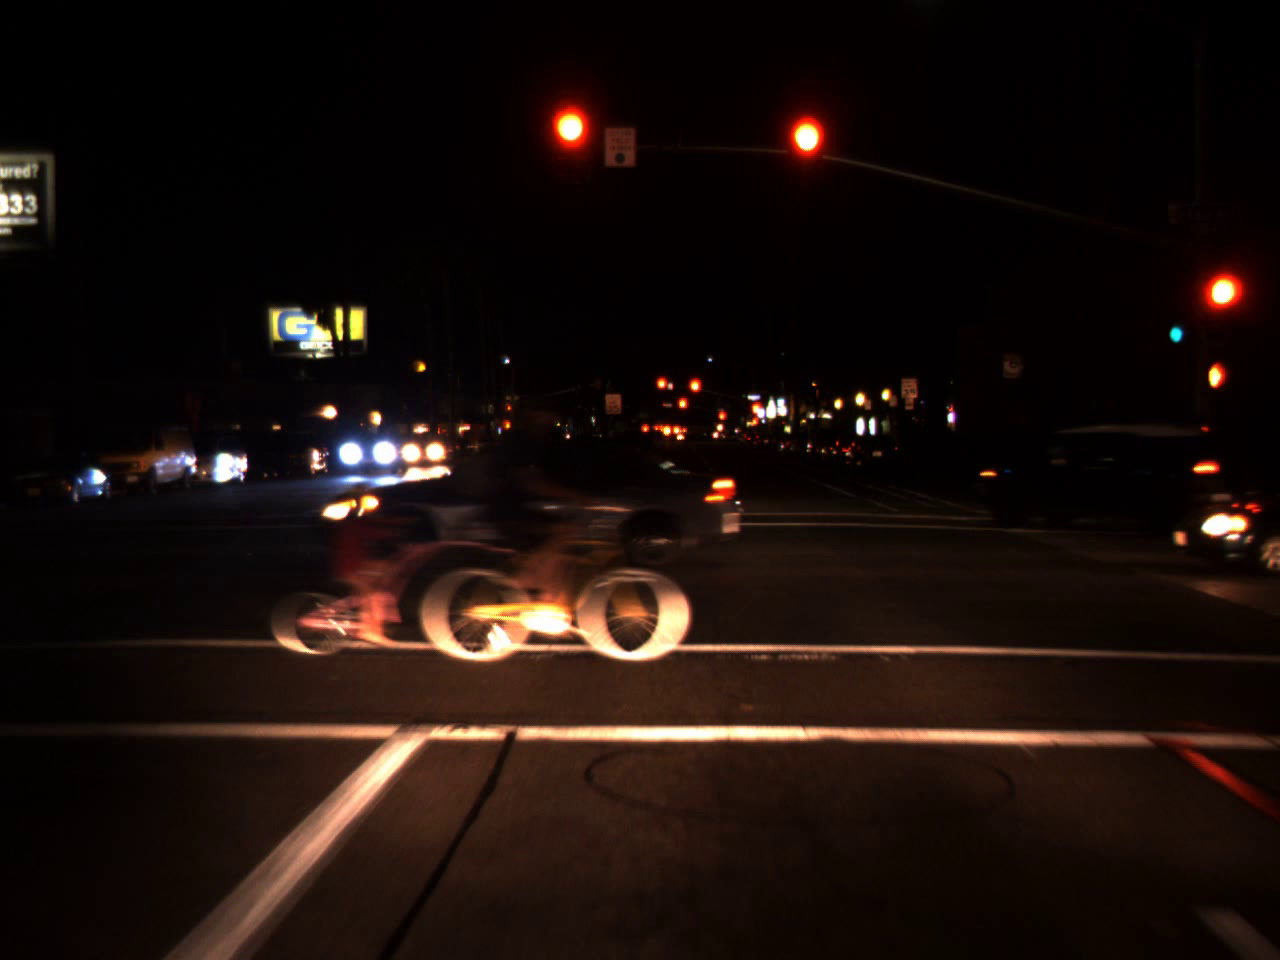stop: (786, 116, 825, 194), (553, 109, 589, 184), (1208, 275, 1236, 337), (688, 377, 701, 409), (747, 400, 762, 424), (655, 376, 668, 400), (677, 395, 689, 422), (717, 410, 727, 431), (503, 402, 512, 418)
